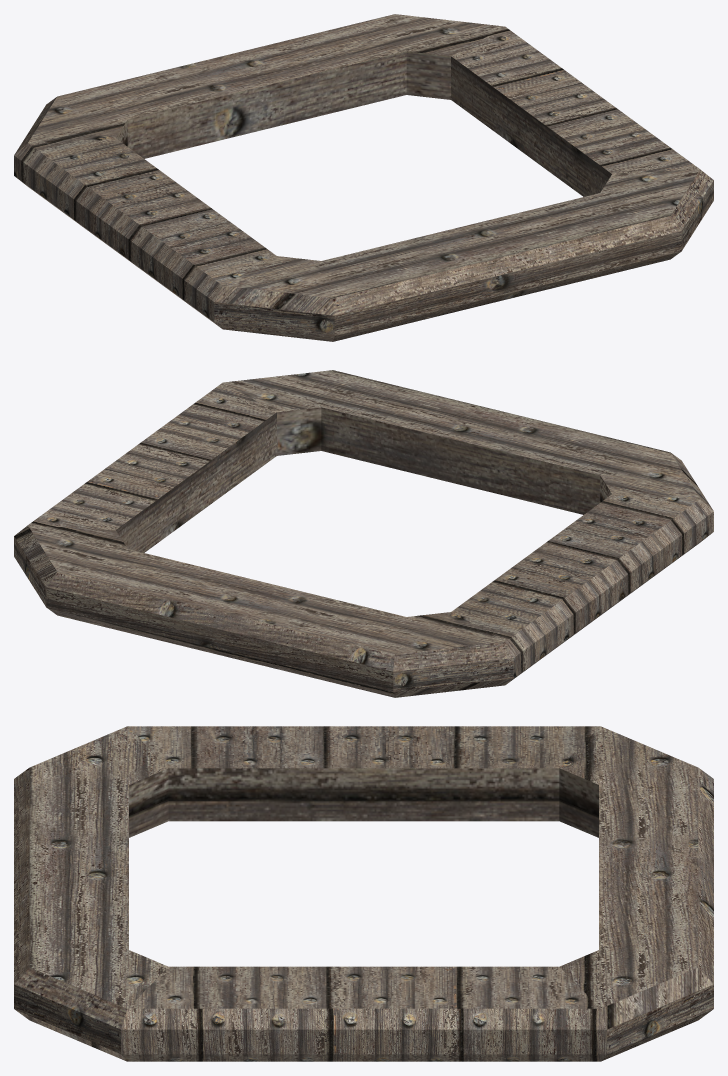
Rendered from Catwalk.fbx.
3 renders of one model, top to bottom at view 1: azimuth 30°, elevation 25°; view 2: azimuth 150°, elevation 25°; view 3: azimuth 270°, elevation 25°, orthographic. The views are drawn at different scales.
Parts seen in each view (by area): view 1: Plataforma.002; view 2: Plataforma.002; view 3: Plataforma.002.
Boxes of the visible parts, x1=… form: Plataforma.002: x1=14, y1=14, x2=713, y2=341; Plataforma.002: x1=14, y1=370, x2=713, y2=697; Plataforma.002: x1=14, y1=726, x2=713, y2=1061.
Bounding box in the file's own units: 298 × 24.9 × 298.
